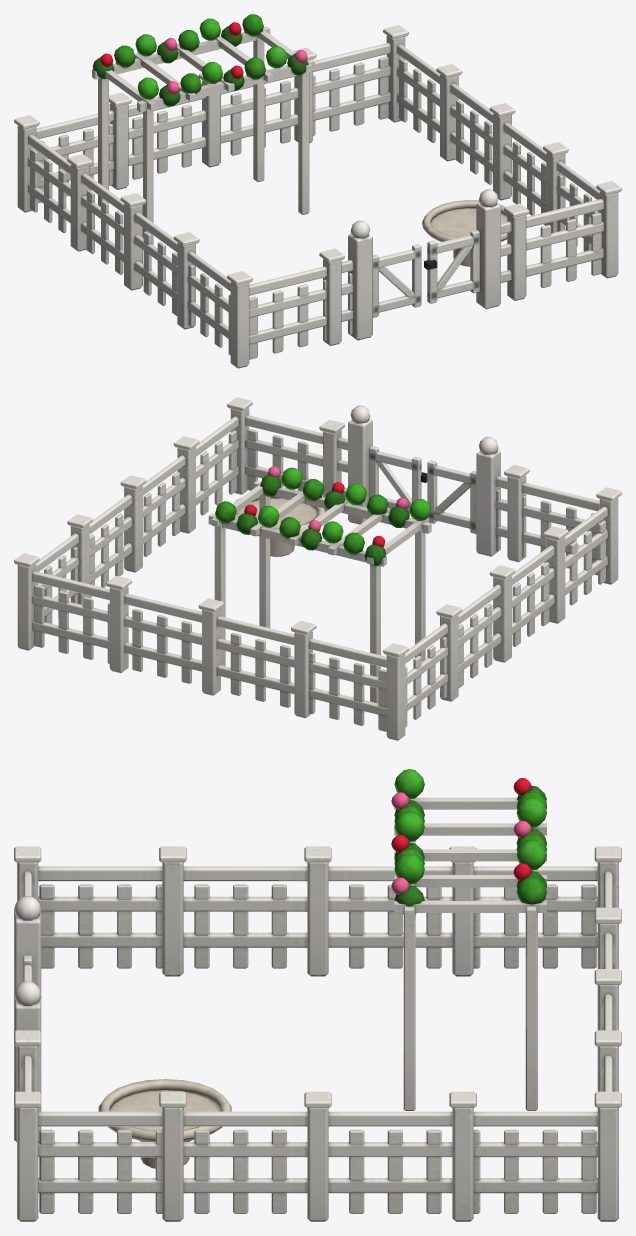
File: peacock_garden.glb
3 renders of one model, top to bottom at view 1: azimuth 30°, elevation 25°; view 2: azimuth 150°, elevation 25°; view 3: azimuth 270°, elevation 25°, orthographic. The views are drawn at different scales.
Parts seen in each view (by area): view 1: peacock_garden, gate1, gate0; view 2: peacock_garden, gate0, gate1; view 3: peacock_garden.
Part boxes in pixels (<box>): peacock_garden: <box>14,14,621,368</box>; gate1: <box>424,229,479,303</box>; gate0: <box>373,244,421,317</box>; peacock_garden: <box>14,397,621,740</box>; gate0: <box>427,460,476,533</box>; gate1: <box>369,446,427,518</box>; peacock_garden: <box>14,769,621,1221</box>.
Bounding box in the file's own units: 1.99 × 0.85 × 1.99.
1 material, 1 textured.
